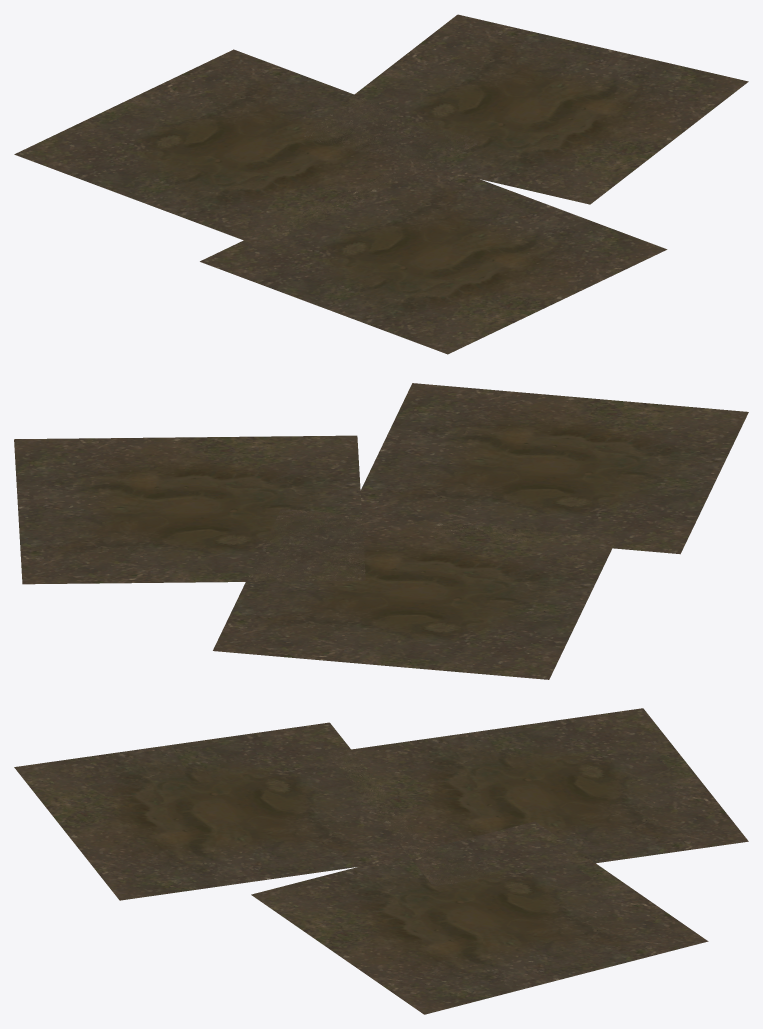
Rendered from dirt_blends.fbx.
3 renders of one model, top to bottom at view 1: azimuth 30°, elevation 25°; view 2: azimuth 150°, elevation 25°; view 3: azimuth 270°, elevation 25°, orthographic. The views are drawn at different scales.
Parts seen in each view (by area): view 1: obj0.049; view 2: obj0.049; view 3: obj0.049.
Boxes of the visible parts, x1,y1,x2,y2 form: obj0.049: [14, 14, 748, 354]; obj0.049: [14, 383, 748, 679]; obj0.049: [14, 708, 748, 1014].
Size of the model in its own units: 19.41 by 3.35e-06 by 19.67.
